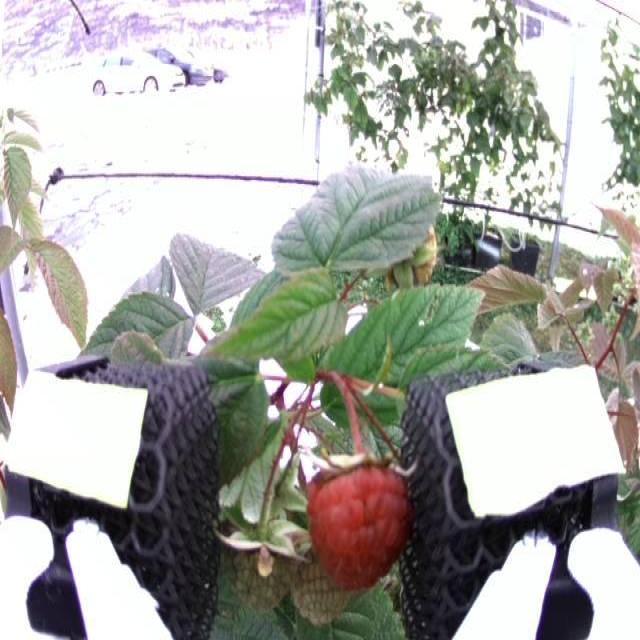Riped berries: (299, 453, 417, 590)
